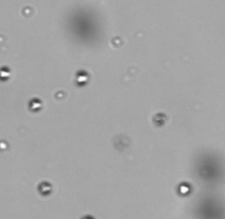Dead Cell: (37, 181, 53, 195), (153, 113, 167, 126)
Living Cell: (76, 71, 89, 85), (29, 98, 42, 111), (178, 183, 190, 197), (1, 68, 10, 81), (1, 140, 9, 151)
